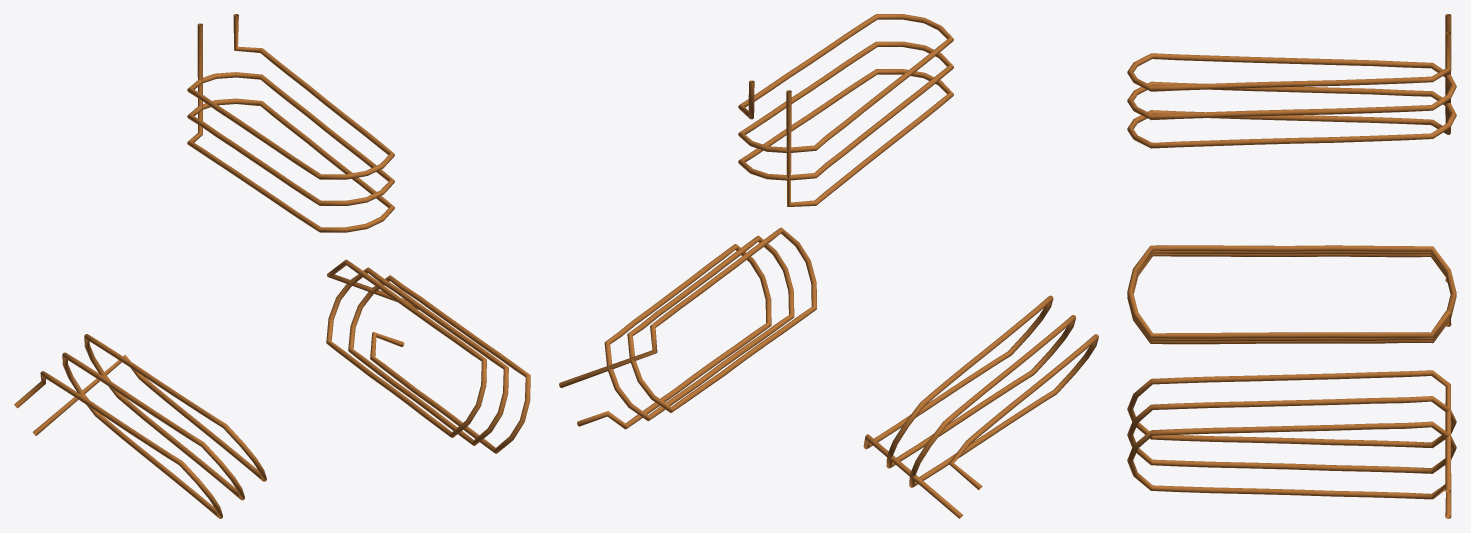
File: DCblCoil.glb
3 renders of one model, left to right at view 1: azimuth 30°, elevation 25°; view 2: azimuth 150°, elevation 25°; view 3: azimuth 270°, elevation 25°, orthographic. The views are drawn at different scales.
Visible parts, largest first — view 1: Spiral.001, Spiral.004, Spiral.002; view 2: Spiral.001, Spiral.004, Spiral.002; view 3: Spiral.001, Spiral.004, Spiral.002.
Boxes of the visible parts, <box> form: Spiral.001: <box>326,259,530,453</box>; Spiral.004: <box>187,14,394,232</box>; Spiral.002: <box>14,334,266,518</box>; Spiral.001: <box>559,227,816,429</box>; Spiral.004: <box>738,14,953,206</box>; Spiral.002: <box>863,295,1098,518</box>; Spiral.001: <box>1127,370,1456,518</box>; Spiral.004: <box>1127,14,1456,148</box>; Spiral.002: <box>1127,245,1456,344</box>.
Size of the model in its own units: 6.84 by 5.99 by 4.48.
